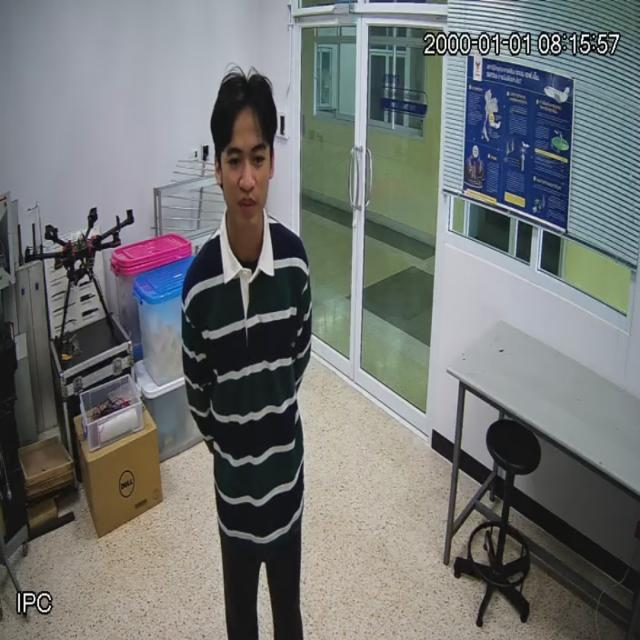normal: (182, 72, 311, 640)
